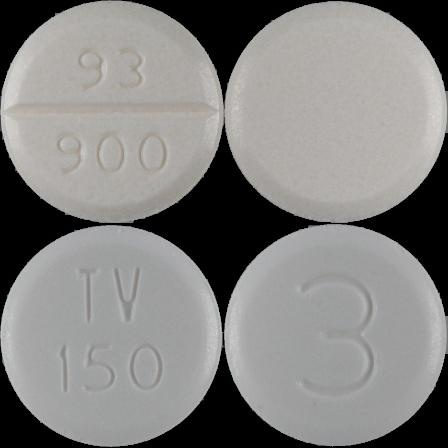63629-1485: (0, 0, 224, 224)
